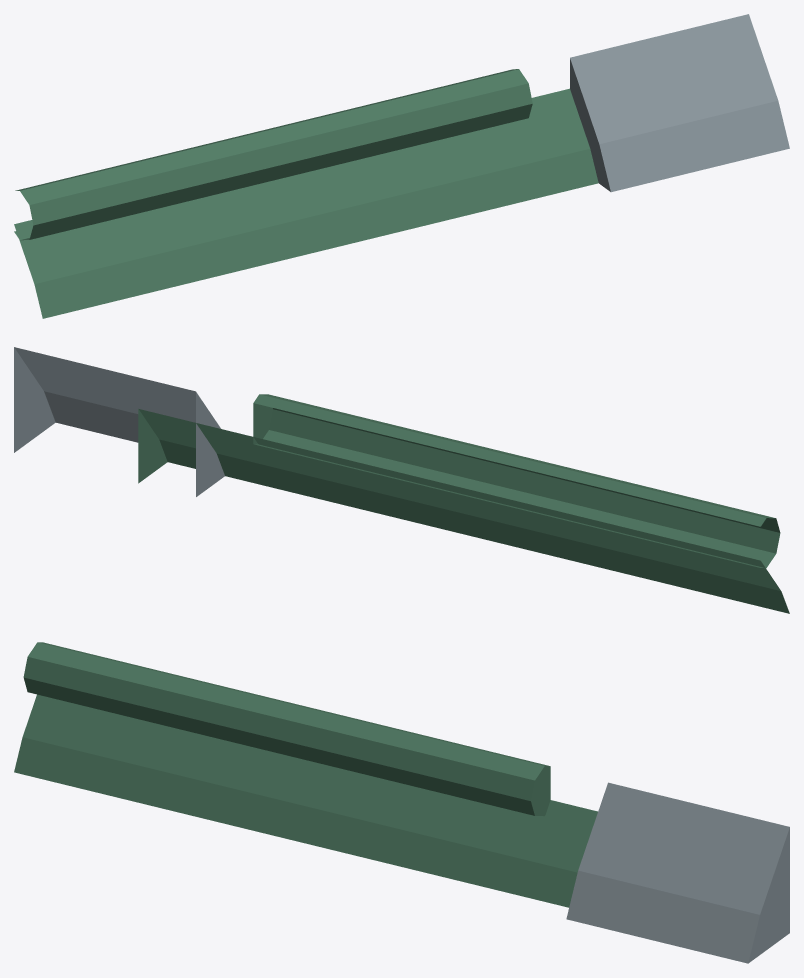
The model's file is cell_17.obj.
3 views of the same model, one above another, from view 1: azimuth 30°, elevation 25°; view 2: azimuth 150°, elevation 25°; view 3: azimuth 330°, elevation 25° (orthographic).
Bounding box in the file's own units: 0.78 × 0.1128 × 0.0755.
